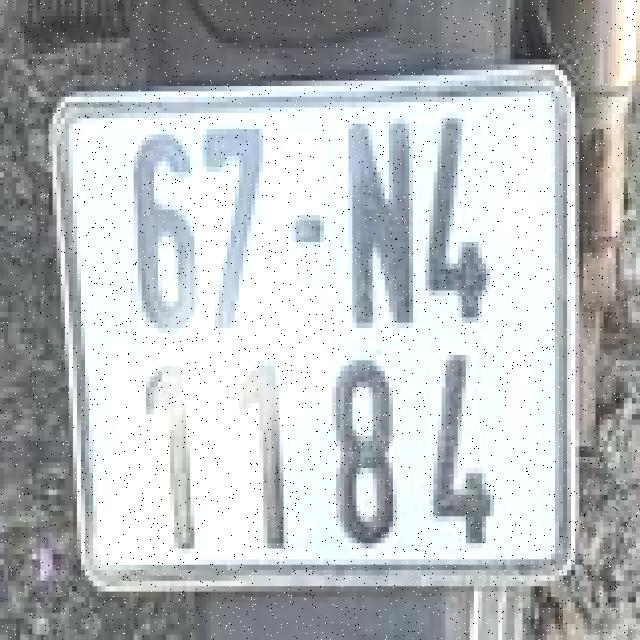1: (225, 355, 298, 554), (136, 342, 204, 551)
4: (417, 339, 502, 554), (421, 113, 494, 328)
6: (118, 132, 202, 336)
7: (198, 124, 268, 339)
8: (324, 344, 401, 549)
N: (334, 110, 423, 331)
